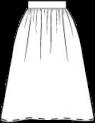Hemline: (0, 118, 94, 121)
Waistline: (27, 0, 65, 9)
